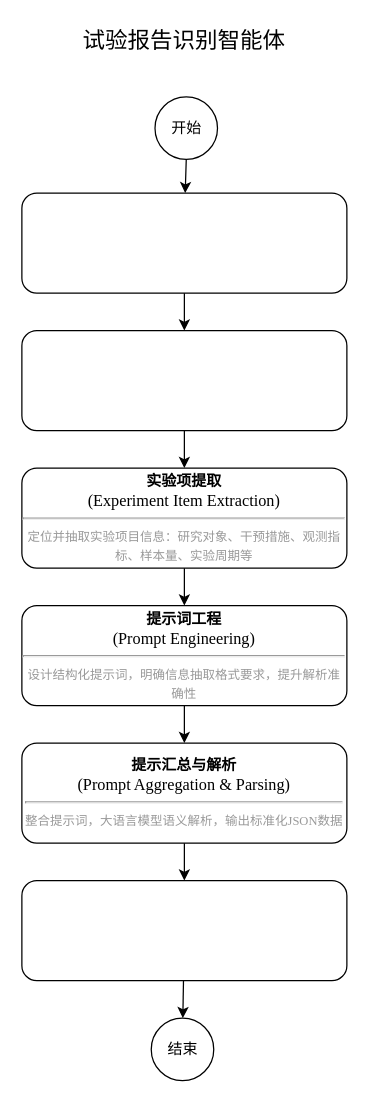
Image size: 369x1103. Some labels were removed from this diagram. The shapes that lost their labels are listed below. From the top down, each one's centre as x and y in pixels, then its label:
At pixel 184 242: "文本提取器 (Text Extractor) 从Word/PDF提取完整文本内容，支持多种文件格式解析，确保信息完整性与可读性".
At pixel 184 380: "参数提取器 (Parameter Extractor) 识别实验报告类型（随机对照试验、队列研究等），为后续解析提供上下文依据".
At pixel 184 930: "JSON 数据入库 (Data Storage) 写入数据库，完成非结构化到结构化转化，支持查询与分析应用".
